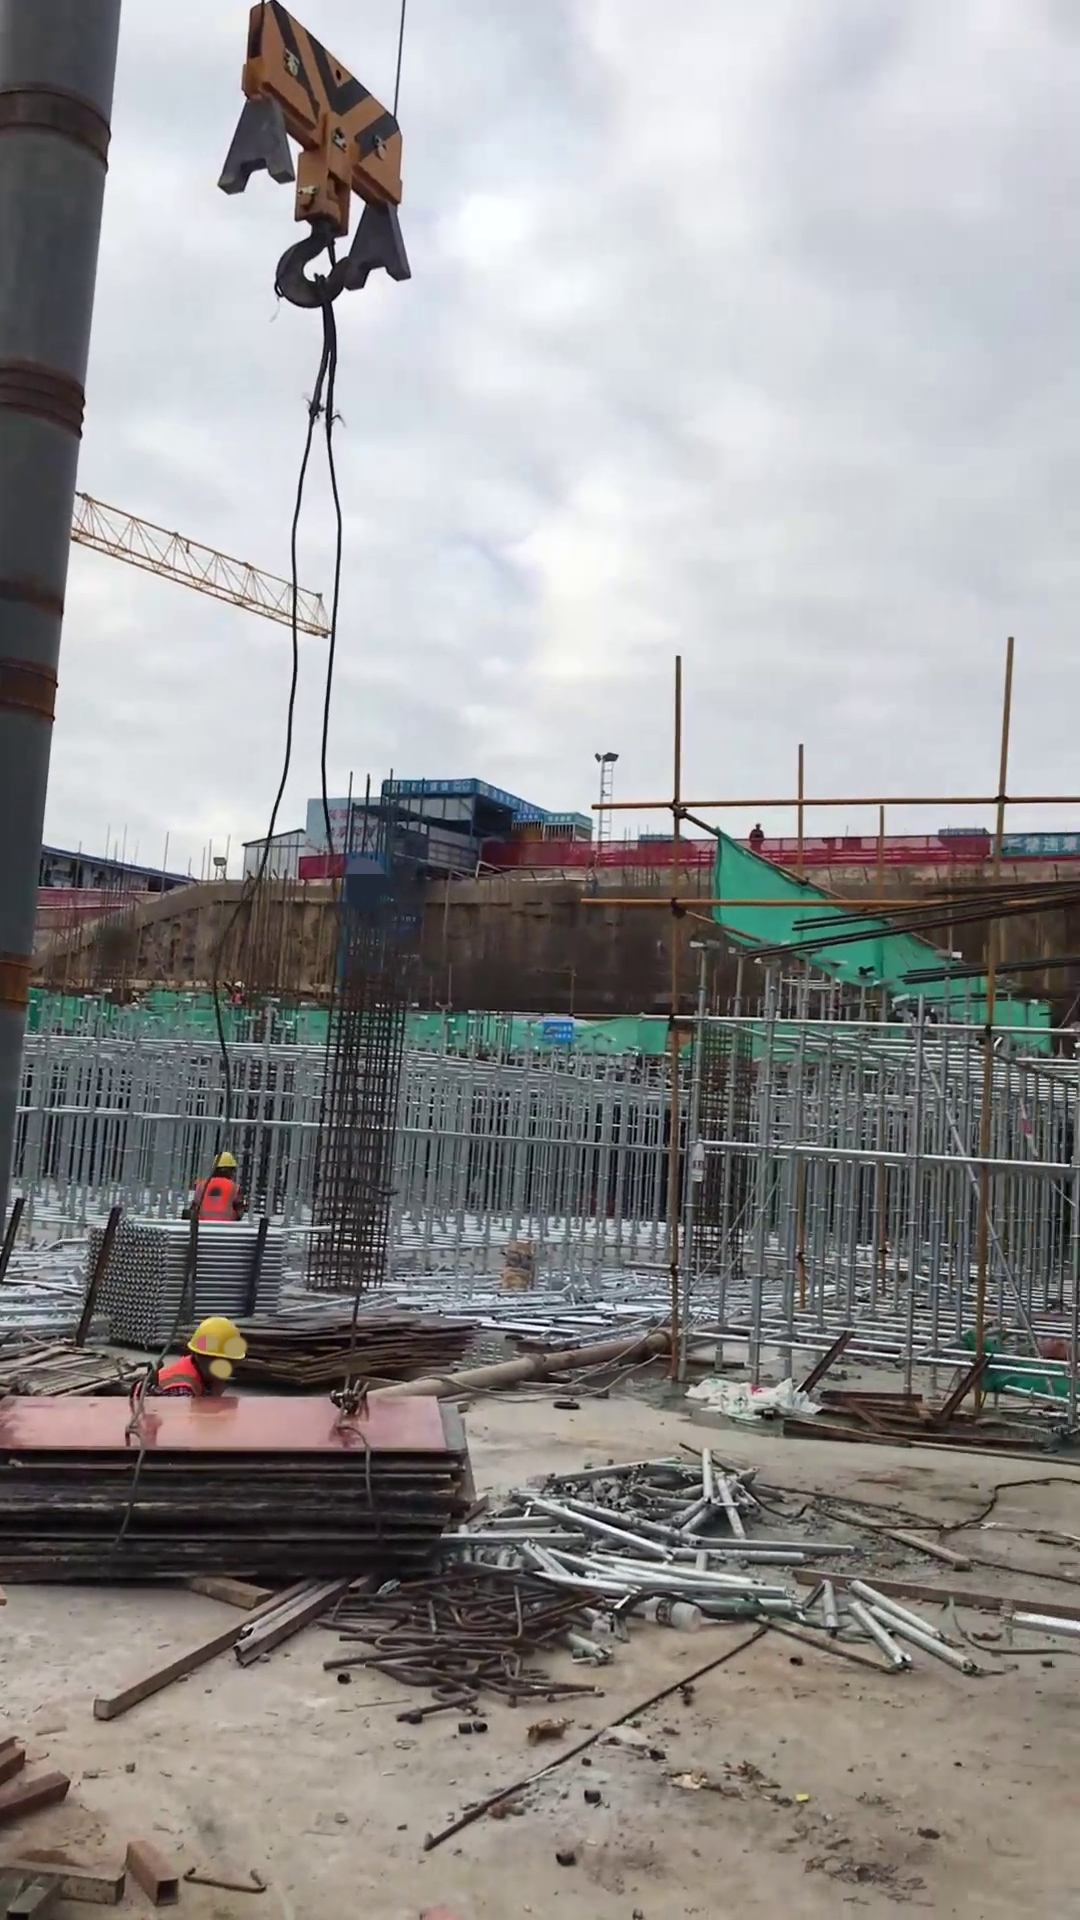board: (1, 1391, 468, 1584), (237, 1303, 489, 1386)
helmet: (184, 1313, 248, 1369), (210, 1149, 238, 1175), (233, 977, 246, 991)
hook: (214, 1, 415, 310)
person: (131, 1313, 249, 1397), (190, 1149, 248, 1224), (225, 975, 246, 1007)
scaffold: (78, 1217, 290, 1350)
slogan: (384, 779, 593, 827), (320, 802, 382, 840), (999, 829, 1080, 858), (541, 1015, 578, 1046)
vest: (132, 1353, 210, 1396), (190, 1173, 240, 1223), (229, 989, 244, 1006)
